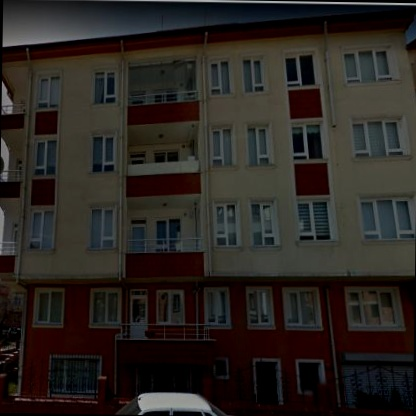door: (256, 363, 279, 404)
